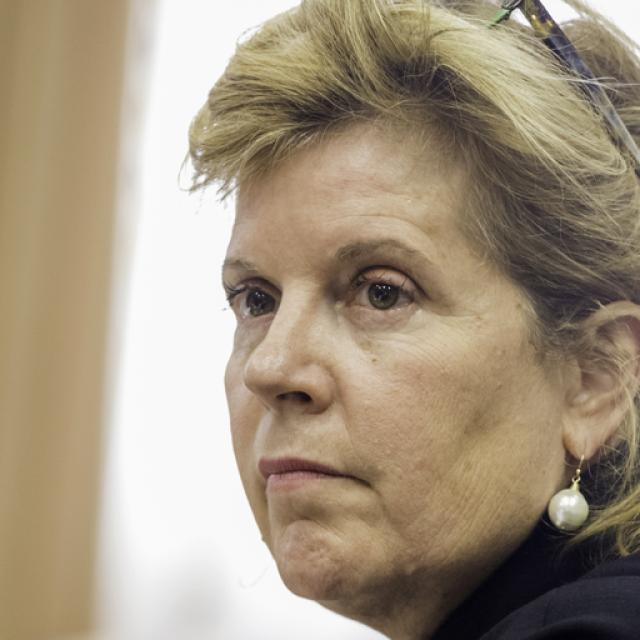surprise: (219, 125, 559, 603)
